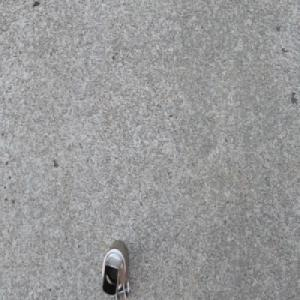MetalPart: (100, 237, 132, 300)
